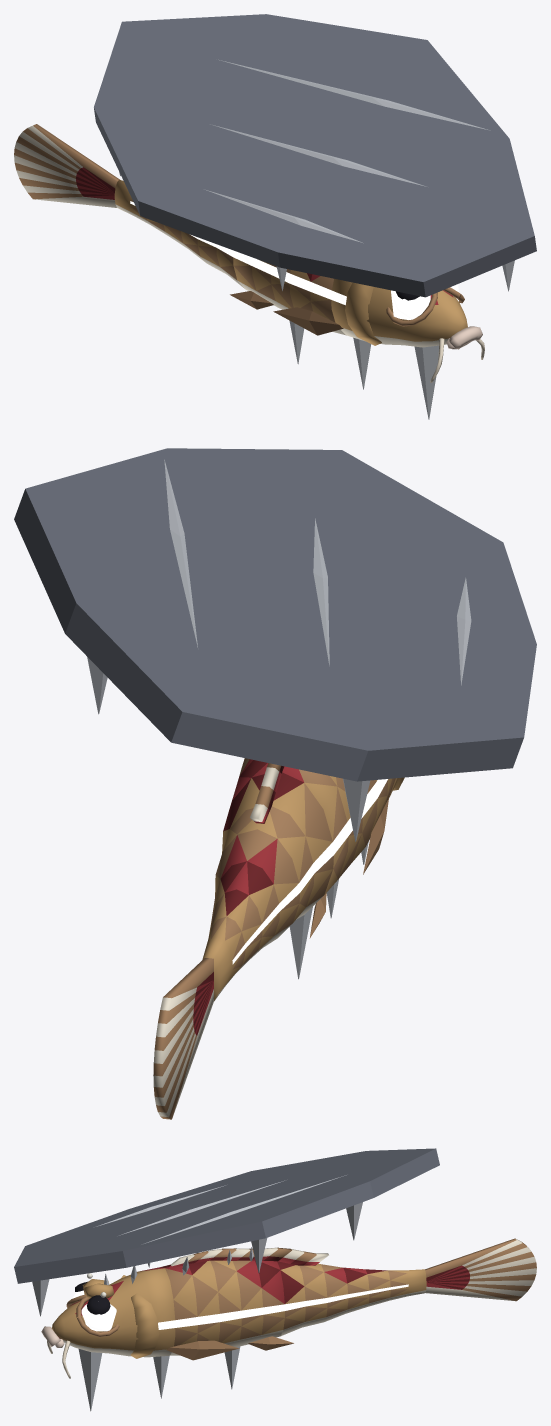
The model's file is carp-under-the-ice.glb.
The picture shows the model from 3 angles, top to bottom: view 1: azimuth 30°, elevation 25°; view 2: azimuth 150°, elevation 25°; view 3: azimuth 270°, elevation 25°; orthographic projection. The views are drawn at different scales.
Parts seen in each view (by area): view 1: pane, wag_body_2, carp_head, wag_body_0, wag_body_1, rime, pulse_gill_r, glide_fin_r, blink_eye_r; view 2: pane, wag_body_1, wag_body_2, wag_body_0, rime; view 3: pane, wag_body_0, wag_body_1, carp_head, wag_body_2, rime, pulse_gill_l, blink_eye_l, glide_fin_l.
Part boxes in pixels (x1,y1,x2,y2): pane: (94, 14, 536, 297); wag_body_2: (14, 124, 119, 207); carp_head: (331, 278, 482, 349); wag_body_0: (230, 251, 346, 335); wag_body_1: (114, 179, 244, 288); rime: (289, 320, 438, 419); pulse_gill_r: (345, 282, 381, 345); glide_fin_r: (273, 307, 343, 335); blink_eye_r: (391, 290, 430, 319); pane: (14, 448, 536, 841); wag_body_1: (202, 767, 333, 1001); wag_body_2: (153, 958, 213, 1119); wag_body_0: (225, 758, 395, 938); rime: (289, 842, 368, 979); pane: (14, 1148, 439, 1316); wag_body_0: (160, 1247, 293, 1355); wag_body_1: (277, 1249, 426, 1335); carp_head: (41, 1267, 175, 1357); wag_body_2: (425, 1238, 536, 1301); rime: (78, 1247, 253, 1411); pulse_gill_l: (130, 1293, 159, 1358); blink_eye_l: (81, 1292, 116, 1331); glide_fin_l: (166, 1340, 239, 1360).
Bounding box in the file's own units: 0.4734 × 0.4226 × 0.8614.
